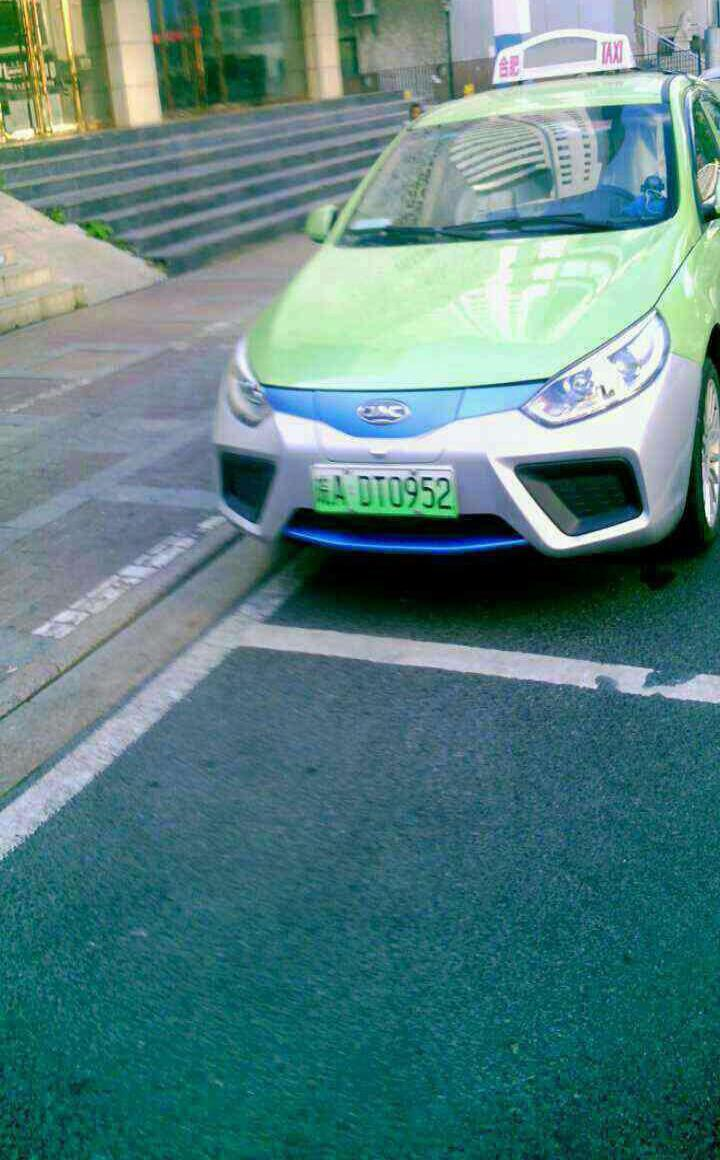car_id: (309, 466, 461, 525)
